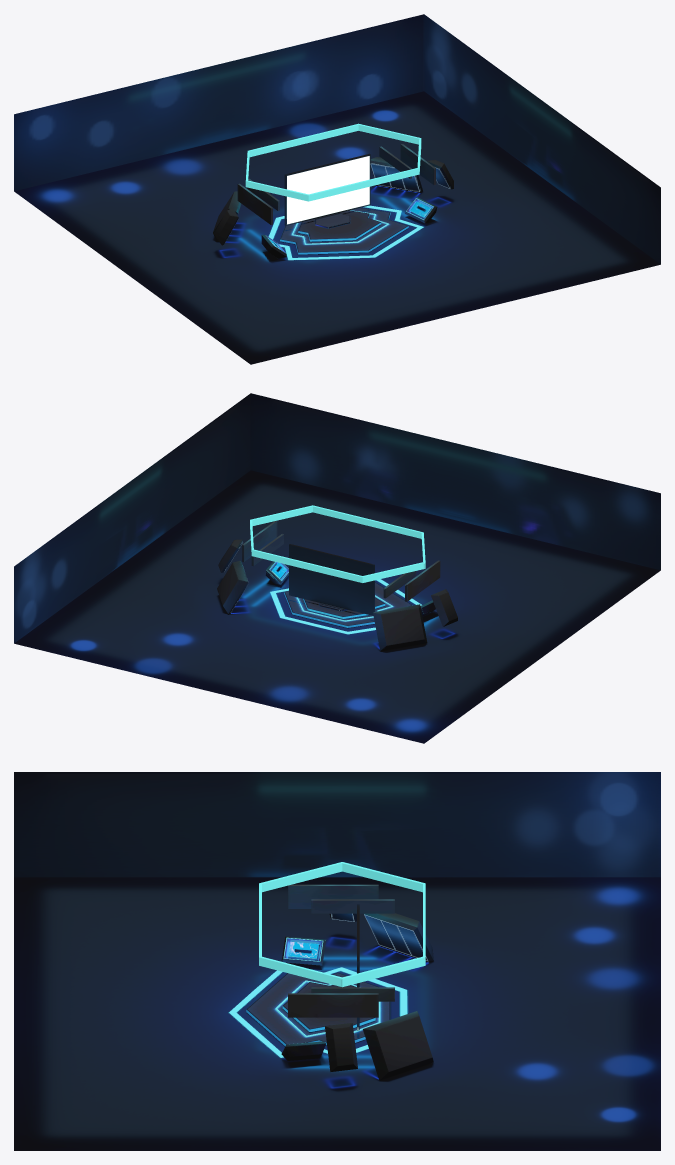
File: modelis.glb
3 renders of one model, top to bottom at view 1: azimuth 30°, elevation 25°; view 2: azimuth 150°, elevation 25°; view 3: azimuth 270°, elevation 25°, orthographic. The views are drawn at different scales.
Parts seen in each view (by area): view 1: floor, house, stage, screen, roof, Cube dec, dec, lighting, Cube light, frame; view 2: floor, house, frame, Cube dec, roof, stage, dec, lighting, Cube light; view 3: floor, house, Cube dec, dec, stage, roof, Cube light, lighting.
Part boxes in pixels (x1,y1,x2,y2): floor: (14,91,660,364); house: (14,14,660,264); stage: (280,207,408,254); screen: (287,156,369,224); roof: (245,123,421,201); Cube dec: (213,157,453,245); dec: (237,144,435,224); lighting: (268,205,423,260); Cube light: (261,197,437,258); frame: (284,153,370,225); floor: (14,470,660,743); house: (14,393,660,643); frame: (289,544,374,615); Cube dec: (217,539,457,650); roof: (250,505,425,582); stage: (284,582,412,627); dec: (242,521,440,601); lighting: (270,579,421,634); Cube light: (265,561,435,615); floor: (14,877,660,1150); house: (14,772,660,877); Cube dec: (325,913,433,1080); dec: (288,884,394,1017); stage: (246,972,390,1046); roof: (259,862,425,987); Cube light: (281,936,326,1060); lighting: (229,967,407,1057).
Bounding box in the file's own units: 89.12 × 16.03 × 89.12.
13 materials, 12 textured.
